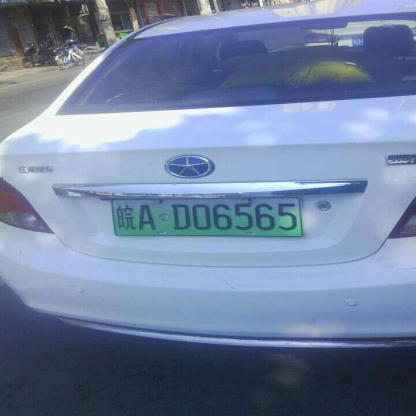lp: (112, 198, 300, 234)
